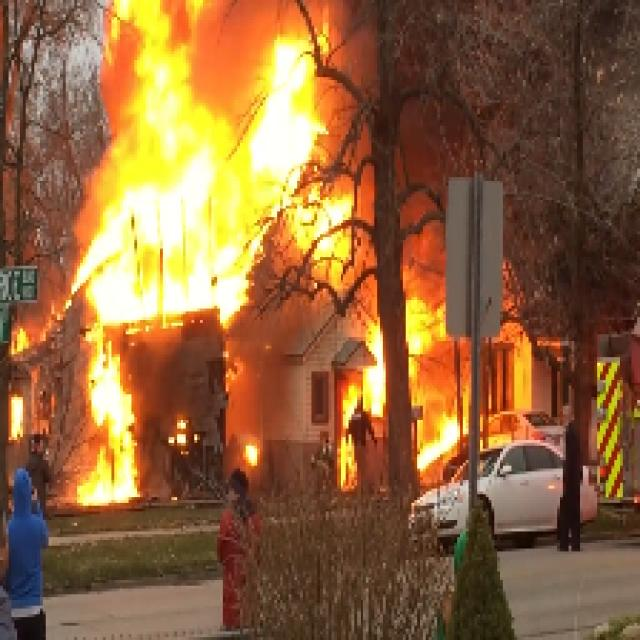fire: (110, 46, 312, 318), (76, 337, 130, 516)
